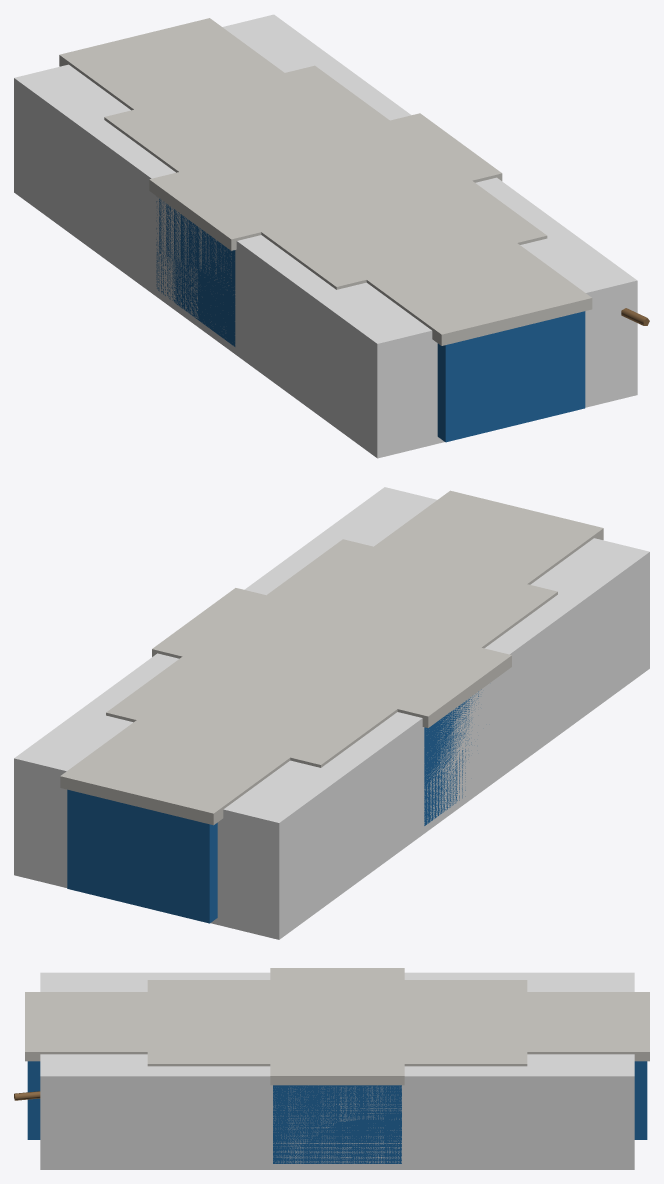
Rendered from barca.glb.
The picture shows the model from 3 angles, top to bottom: view 1: azimuth 30°, elevation 25°; view 2: azimuth 150°, elevation 25°; view 3: azimuth 270°, elevation 25°; orthographic projection. The views are drawn at different scales.
Visible parts, largest first — view 1: barca_Malla, COL_0; view 2: barca_Malla, COL_0; view 3: barca_Malla, COL_0.
Part boxes in pixels (box(x1,y1,x2,y2)): barca_Malla: box(59, 18, 649, 442); COL_0: box(14, 14, 637, 458); barca_Malla: box(60, 490, 603, 923); COL_0: box(14, 487, 649, 939); barca_Malla: box(14, 968, 649, 1163); COL_0: box(40, 972, 634, 1169).
Size of the model in its own units: 1.98 by 0.82 by 4.93.
